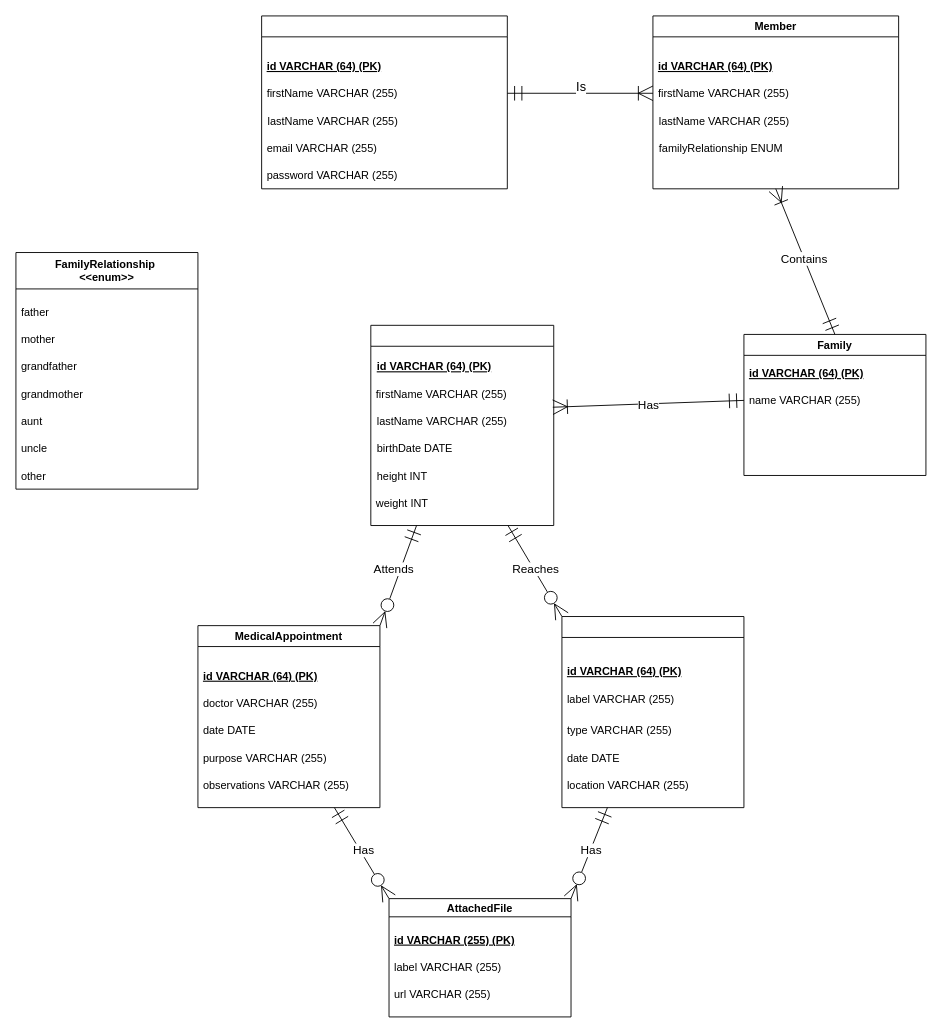
Image size: 942x1033. Some labels were removed from this diagram. The shapes that lost their labels are listed below. From the top down, each one's box as (x1, y1, x2, y2) in pixels, then its label:
(261, 15, 507, 189): User
(370, 324, 554, 526): Baby
(561, 616, 744, 808): Milestone
